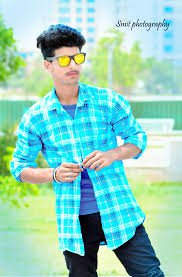noMask: (32, 26, 93, 88)
